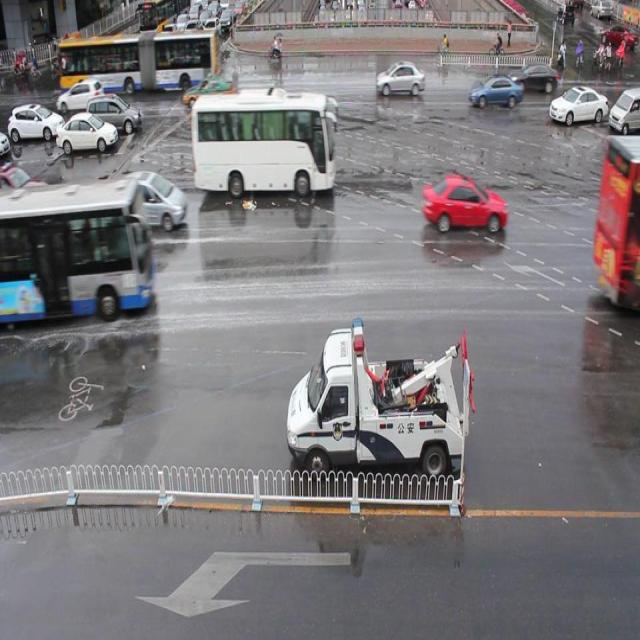car: (421, 173, 505, 235), (114, 171, 188, 234), (548, 82, 606, 123), (374, 61, 424, 97), (468, 75, 522, 108), (183, 75, 231, 110), (510, 61, 557, 95)
van: (1, 182, 152, 319), (194, 94, 334, 192), (596, 134, 640, 307)
